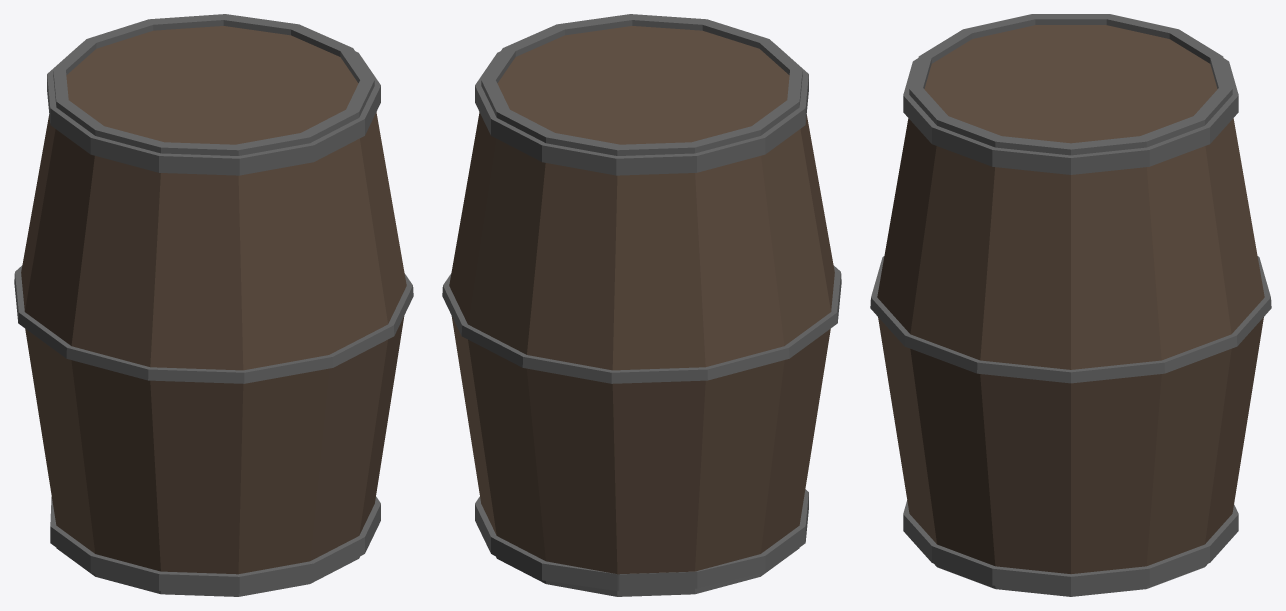
Rendered from Barrel.fbx.
3 renders of one model, left to right at view 1: azimuth 30°, elevation 25°; view 2: azimuth 150°, elevation 25°; view 3: azimuth 270°, elevation 25°, orthographic.
Parts seen in each view (by area): view 1: Barrel1; view 2: Barrel1; view 3: Barrel1.
Part boxes in pixels (x1=…): Barrel1: x1=14, y1=14, x2=413, y2=596; Barrel1: x1=442, y1=14, x2=841, y2=596; Barrel1: x1=870, y1=14, x2=1271, y2=596.
Size of the model in its own units: 1.78 by 2.21 by 1.79.
